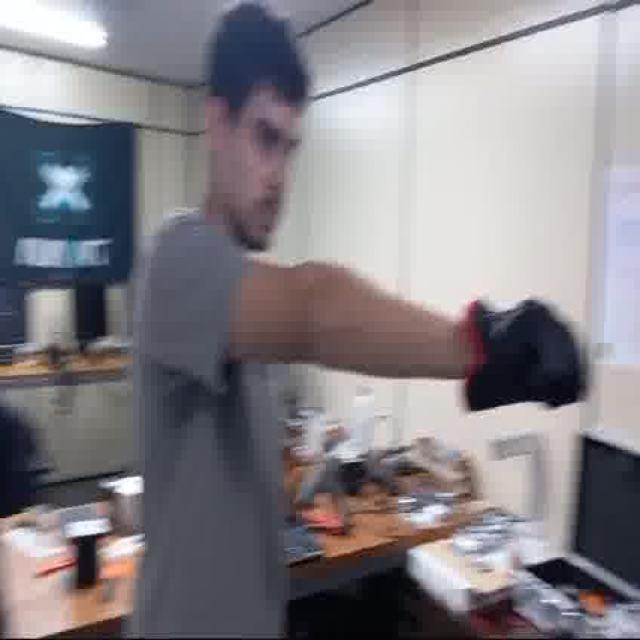Gloves: (466, 298, 585, 421)
